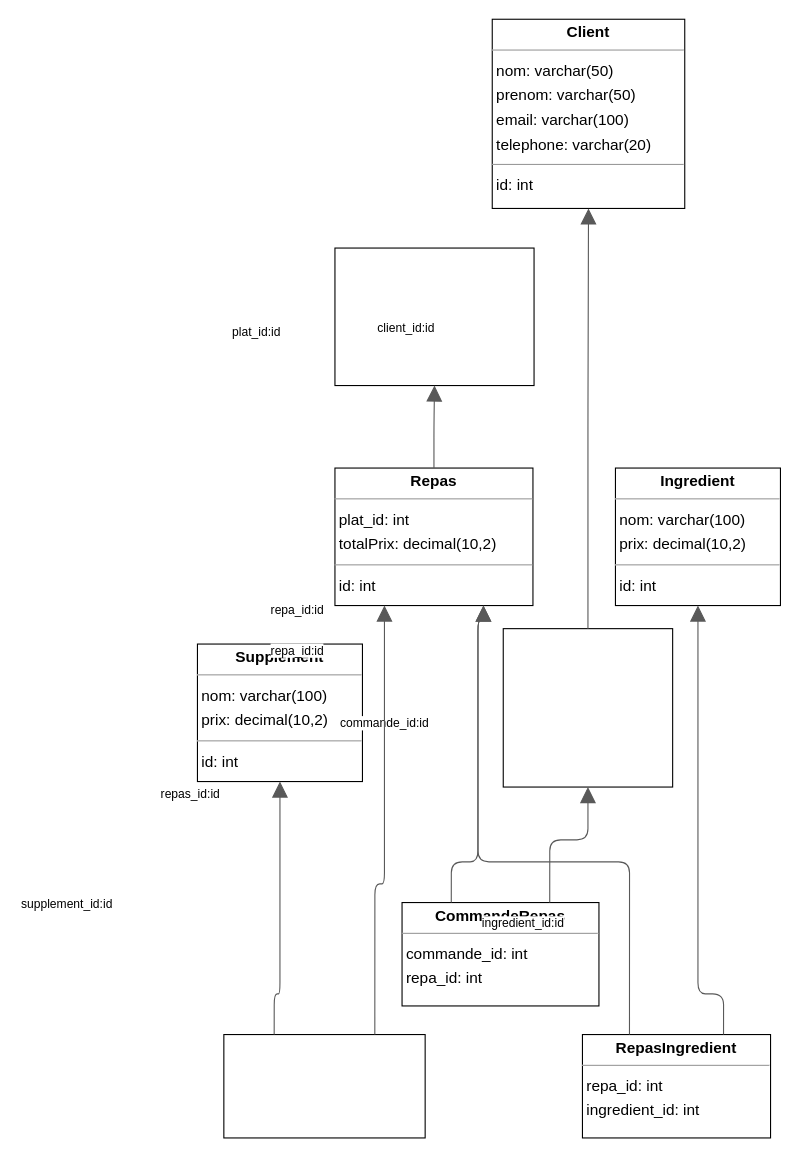
Image size: 800x1157. Some labels were removed from this diagram. Here are the shapes that lost their labels. From the top down, the centre of each, then its label:
At pixel 434 316: "PlatPrincipal nom: varchar(100) basePrix: decimal(10,2) id: int".
At pixel 587 707: "Commande client_id: int date: datetime total: decimal(10,2) id: int".
At pixel 324 1085: "RepasSupplement repas_id: int supplement_id: int".
